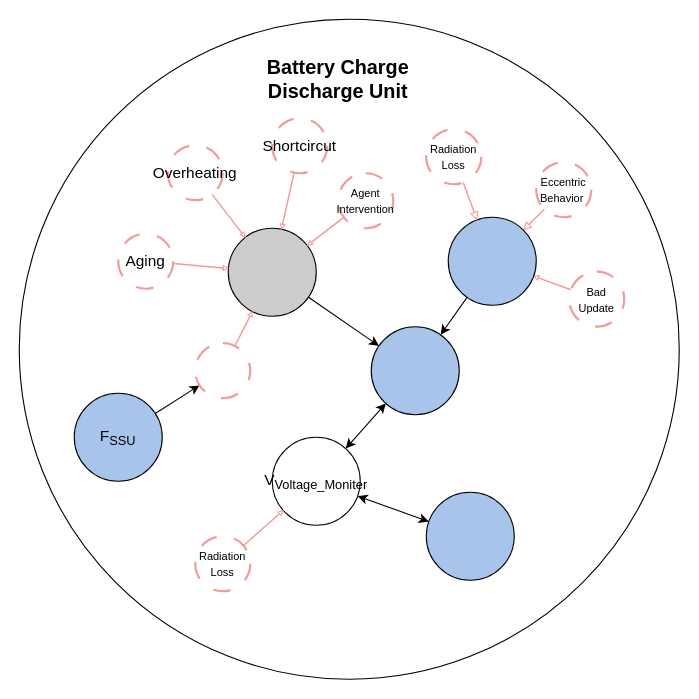
The diagram is 699 pixels wide and 699 high, and some of its shapes have lost their labels. The shapes that lost their labels are listed below. From the top down, each one's box as (x1, y1, x2, y2) in pixels, then its label:
(227, 227, 316, 316): H BCDU
(447, 216, 536, 305): F software
(194, 342, 251, 399): Overcharging
(370, 326, 459, 415): F BCDU
(425, 491, 514, 580): F Battery
